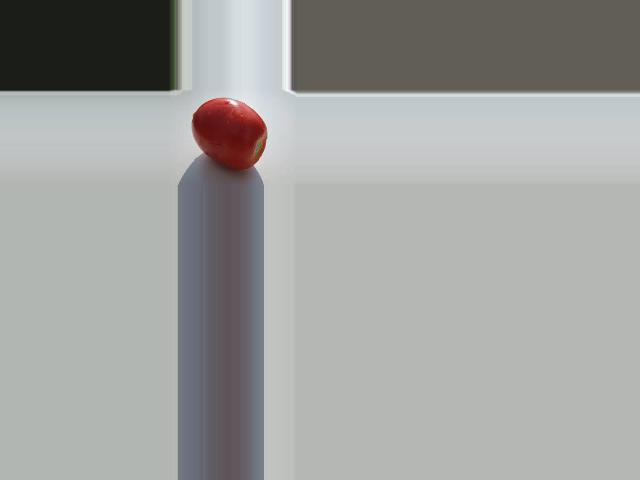tomato: (191, 97, 267, 169)
